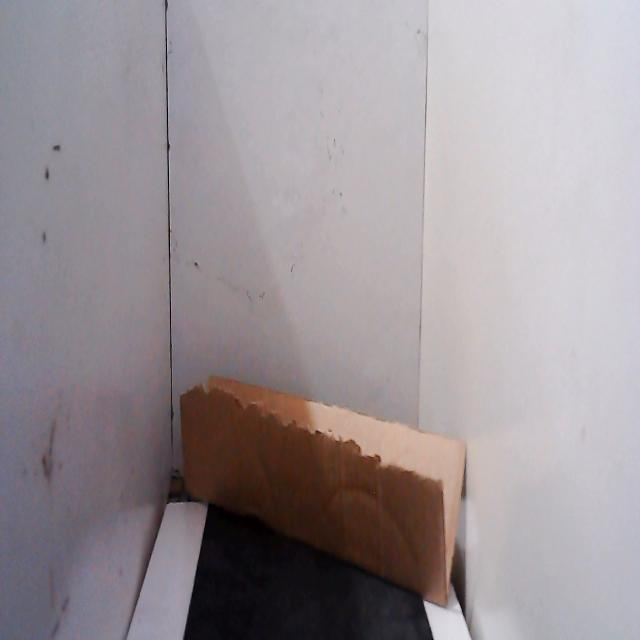papel: (176, 367, 472, 616)
